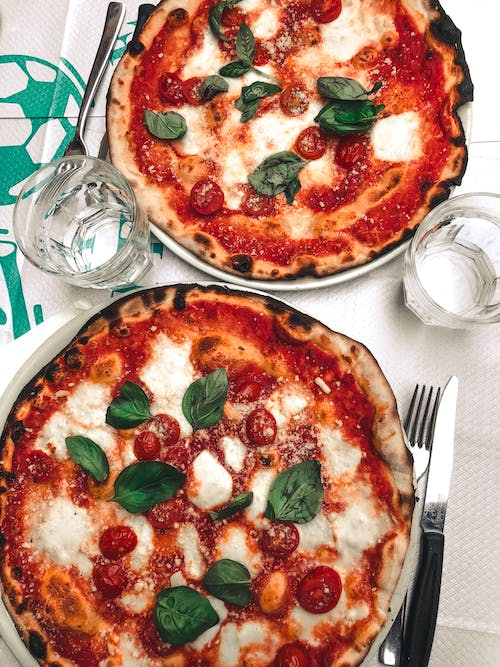knife: (394, 372, 462, 667)
